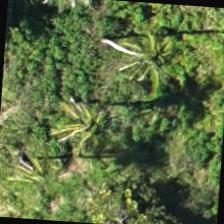Kelapa_Sawit: (101, 21, 197, 116)
